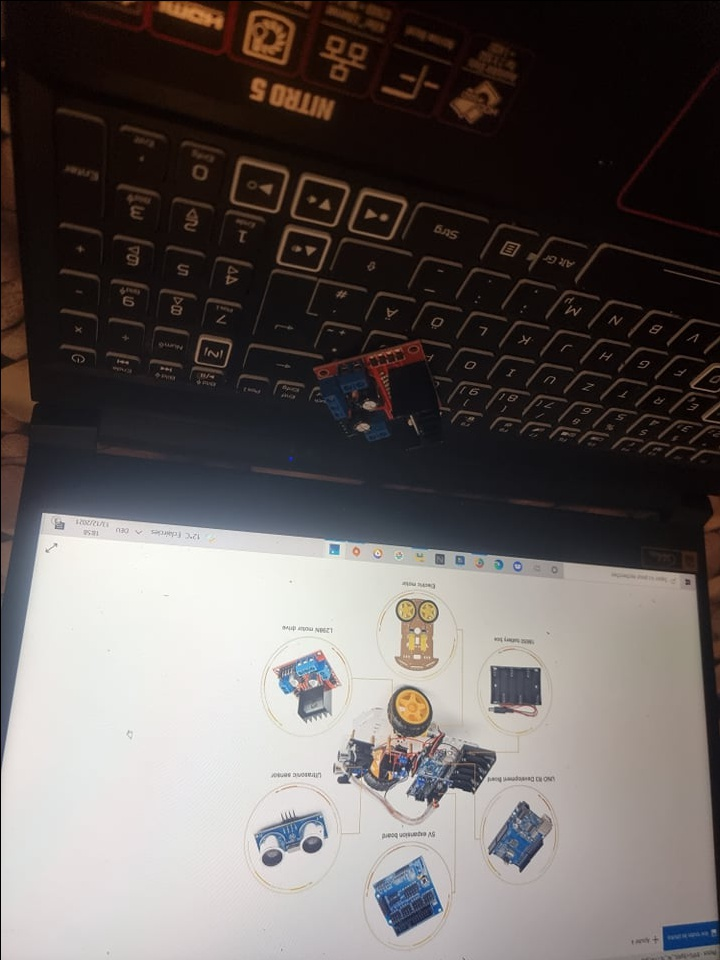5V EXPANSION: (368, 854, 445, 938), (406, 775, 452, 807)
BATTERY BOX: (453, 744, 497, 796), (491, 665, 543, 705)
MOTOR: (314, 336, 445, 456), (273, 647, 340, 722), (378, 752, 410, 783)
SENSOR: (253, 814, 327, 868), (329, 744, 350, 778)
UNO R3: (488, 799, 553, 871), (413, 746, 457, 776)
